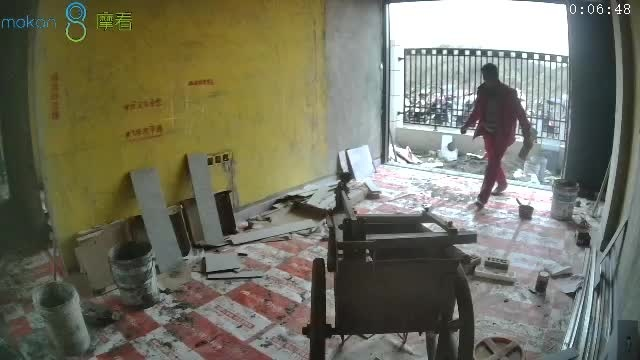people: (460, 63, 533, 208)
window: (386, 2, 572, 142)
